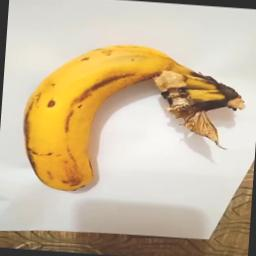Banana Unripe: (18, 34, 250, 202)
